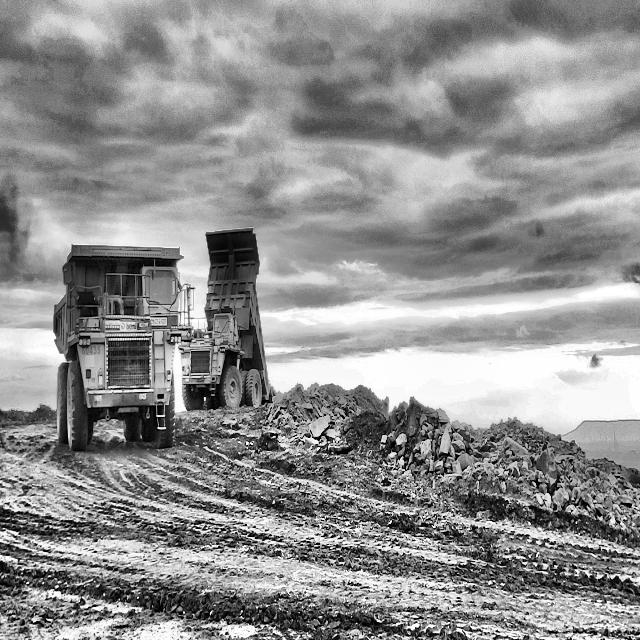dump_truck: (52, 245, 192, 449), (182, 231, 270, 409)
